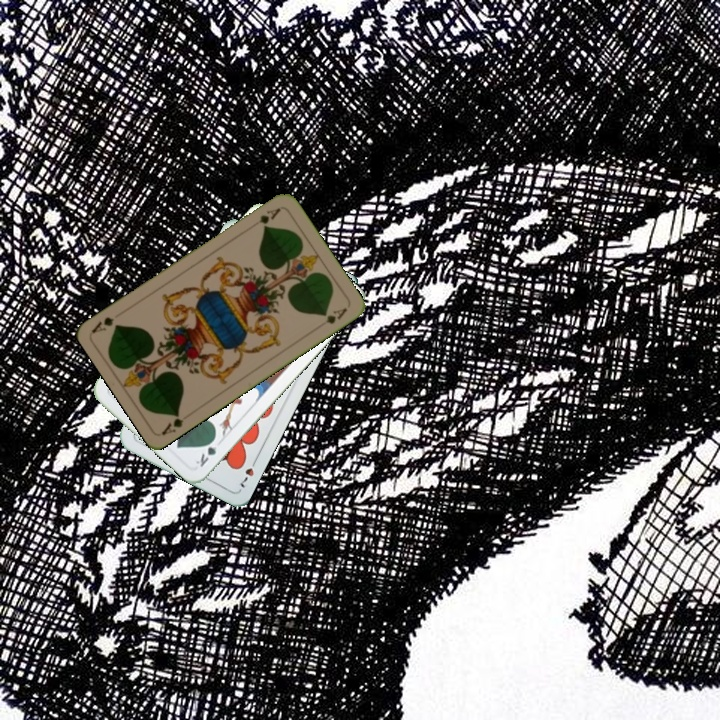GA: (247, 204, 283, 230), (158, 409, 186, 438)
GK: (191, 433, 224, 470)
H7: (236, 454, 260, 491)
